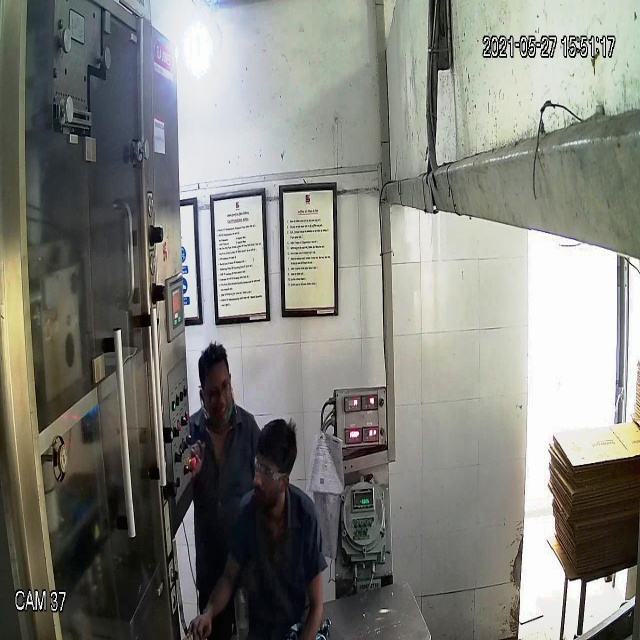Gafas: (252, 450, 293, 484), (199, 377, 233, 409)
